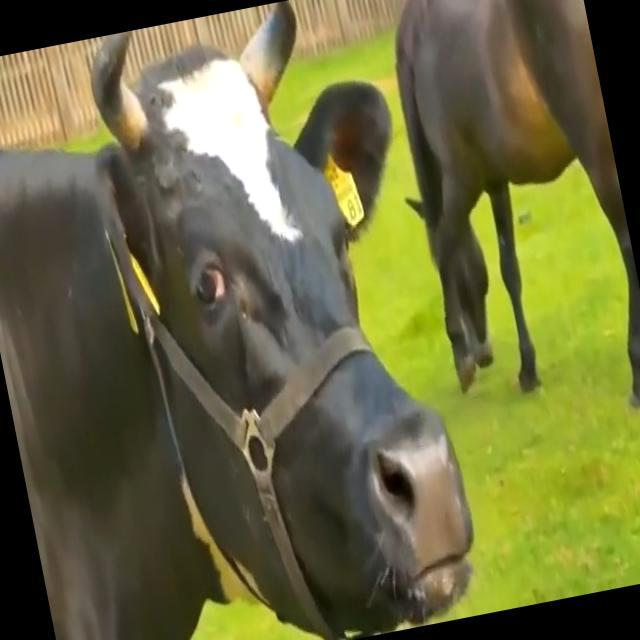COW: (0, 3, 472, 640)
